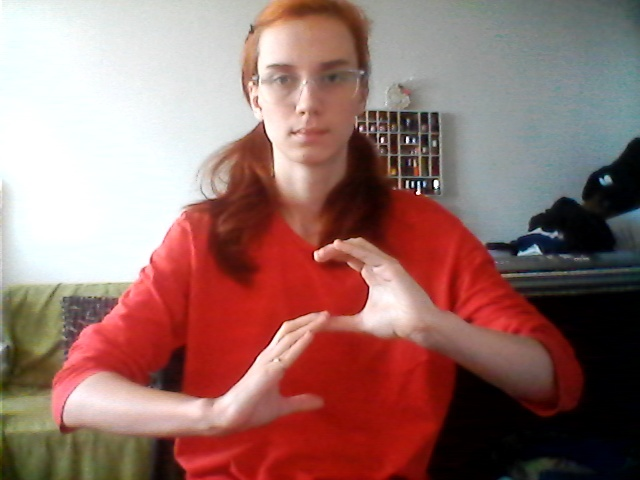s: (223, 219, 429, 441)
